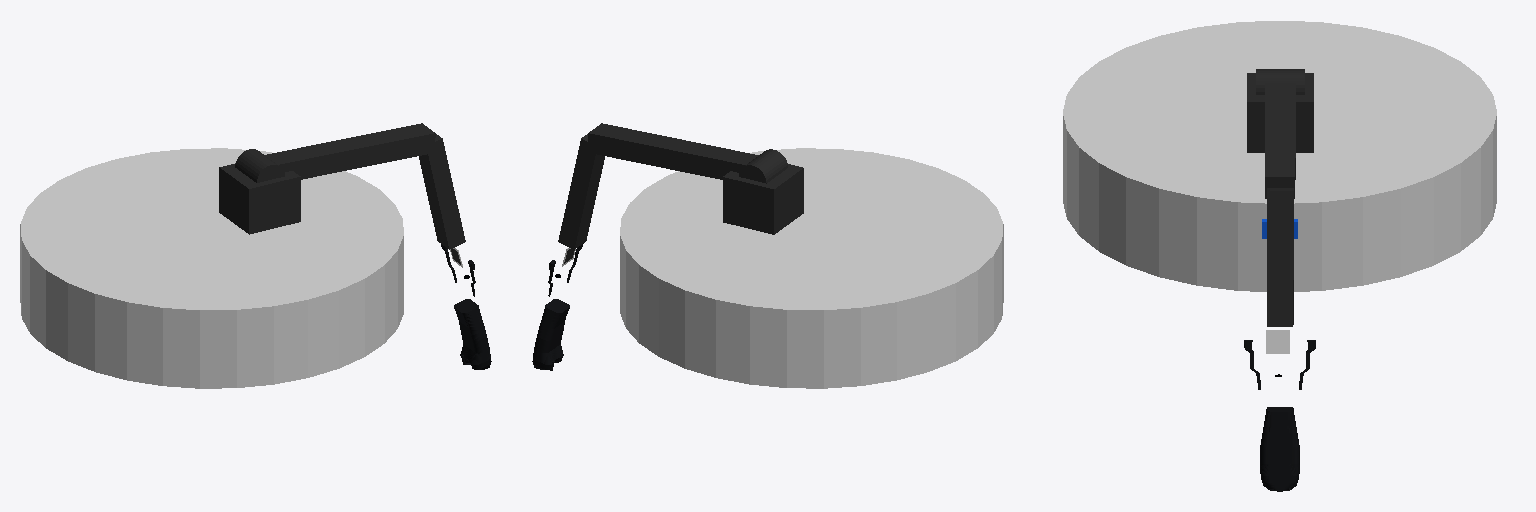
The robot description file, URDF, robot "z70":
<?xml version="1.0" ?><!-- =================================================================================== --><!-- |    This document was autogenerated by xacro from /Users/mpentax/Code/RoboRockZ70-Connector/ros2/install/z70_description/share/z70_description/urdf/z70.urdf.xacro | --><!-- |    EDITING THIS FILE BY HAND IS NOT RECOMMENDED                                 | --><!-- =================================================================================== --><!--
  Roborock Saros Z70 - kinematic description.
  PROVISIONAL shared geometry: config/mount_calibration.yaml, 20261015.
  L2=0.205 and the vendor shoulder reference define a coordinate gauge, NOT measured wrist anatomy.
  M4 zero/physical L2 remain confounded with unknown marker mounts. Firmware FK stays in arm_model.py.
  Display assembly length follows rough owner tape; internal wrist/finger split and M6 remain provisional.
  M5 stays at the nominal gauge station; rolling visuals are translated back along the same x axis.

  URDF joint values (radians) from app angles (degrees), computed in z70_bridge:
    m3_joint = rad(M3 - 270)      link1 absolute app angle = 270 - M3 (from +x toward up)
    m4_joint = rad(180 - M4)      link2 relative to link1 = M4 - 180
    m5_joint = -rad(M5), axis -x  => physical positive roll (live 20261014T144906Z)
    m6 drive = rad(M6)/2; photo-estimated articulation mimics this with multiplier
    2*opening_ratio (pincher_geometry.yaml); nominal0 closed/90 open, not feedback.
--><robot name="z70"><material name="body"><color rgba="0.85 0.85 0.85 1"/></material><material name="arm"><color rgba="0.2 0.2 0.2 1"/></material><material name="cam"><color rgba="0.1 0.4 0.9 1"/></material><material name="pincher_shell"><color rgba="0.10 0.105 0.115 1"/></material><material name="pincher_glass"><color rgba="0.025 0.03 0.035 1"/></material><link name="base_footprint"/><link name="base_link"><visual><origin xyz="0.09720000000000001 0 0.04"/><geometry><cylinder length="0.08" radius="0.1778"/></geometry><material name="body"/></visual></link><joint name="base_joint" type="fixed"><parent link="base_footprint"/><child link="base_link"/></joint><!-- front RGB camera --><link name="camera_link"><visual><geometry><box size="0.01 0.03 0.015"/></geometry><material name="cam"/></visual></link><joint name="camera_joint" type="fixed"><parent link="base_link"/><child link="camera_link"/><!-- New-run floor normal; roll is required for projector/optical-TF agreement. --><origin rpy="-0.007257016757390962 -0.02371494019965833 0" xyz="0.275 0 0.058233433935542395"/></joint><link name="camera_optical_frame"/><joint name="camera_optical_joint" type="fixed"><parent link="camera_link"/><child link="camera_optical_frame"/><origin rpy="-1.5707963267948966 0 -1.5707963267948966"/></joint><!-- Raised base: illustrative pedestal, NOT a surveyed enclosure shape.
       Keep base_footprint/odometry untouched; body nose alignment is visual only. --><link name="arm_base_pedestal_provisional"><visual><origin xyz="0 0 0.02321514576215148"/><geometry><box size="0.055 0.055 0.04643029152430296"/></geometry><material name="arm"/></visual></link><joint name="arm_base_pedestal_mount" type="fixed"><parent link="base_link"/><child link="arm_base_pedestal_provisional"/><origin xyz="0.14851727583481525 0.0005165412464665272 0.08"/></joint><!-- arm: planar chain in the x-z plane, revolute about +y --><link name="arm_shoulder_link"><visual><geometry><cylinder length="0.04" radius="0.015"/></geometry><origin rpy="1.5707963267948966 0 0"/><material name="arm"/></visual></link><link name="arm_vendor_frame"/><joint name="arm_mount" type="fixed"><parent link="base_footprint"/><child link="arm_vendor_frame"/><origin rpy="0 0 -0.0022922989427041425" xyz="0.10101740063232861 0.0006254253508872214 -0.013569708475697051"/></joint><joint name="arm_shoulder_mount" type="fixed"><parent link="arm_vendor_frame"/><child link="arm_shoulder_link"/><origin xyz="0.0475 0 0.14"/></joint><link name="arm_link1"><visual><origin xyz="0.08996244468280346 0 0"/><geometry><box size="0.1799248893656069 0.025 0.02"/></geometry><material name="arm"/></visual></link><joint name="m3_joint" type="revolute"><parent link="arm_shoulder_link"/><child link="arm_link1"/><origin rpy="0 0.039630310698817714 0"/><axis xyz="0 1 0"/><limit effort="5" lower="-3.141592653589793" upper="0" velocity="1"/></joint><link name="arm_link2"><visual><origin xyz="0.057150000000000006 0 0"/><geometry><box size="0.11430000000000001 0.022 0.018"/></geometry><material name="arm"/></visual></link><joint name="m4_joint" type="revolute"><parent link="arm_link1"/><child link="arm_link2"/><origin rpy="0 -0.039630310698817714 0" xyz="0.1799248893656069 0 0"/><axis xyz="0 1 0"/><limit effort="5" lower="0.17453292519943295" upper="2.5307274153917776" velocity="1"/></joint><!-- Camera rolls with M5 (measured 20261014T144906Z); nominal L2 is only a gauge. --><link name="gripper_camera_link"><!-- Small glass surface INSIDE the shared shell's real pocket. +X is view direction. --><visual><geometry><mesh filename="package://z70_description/meshes/pincher_lens.stl"/></geometry><material name="pincher_glass"/></visual></link><joint name="gripper_camera_mount" type="fixed"><parent link="arm_wrist_link"/><child link="gripper_camera_link"/><origin rpy="0.002174875751192185 -0.038601534561726554 0.001844468133870814" xyz="-0.04838856956211718 -0.0011258744987861164 0.00659228305051777"/></joint><link name="gripper_camera_optical_frame"/><joint name="gripper_camera_optical_joint" type="fixed"><parent link="gripper_camera_link"/><child link="gripper_camera_optical_frame"/><origin rpy="-1.5707963267948966 0 -1.5707963267948966"/></joint><link name="arm_wrist_link"><!-- Broad upper face follows the wrist, not the marker-plane orientation.
         Small marker backing is local; cavity and hidden anatomy provisional. --><visual><geometry><mesh filename="package://z70_description/meshes/pincher_shell.stl"/></geometry><material name="pincher_shell"/></visual><collision><origin xyz="-0.0694119432265 0 0.0025"/><geometry><box size="0.0551761135469 0.06 0.013"/></geometry></collision></link><joint name="m5_joint" type="revolute"><parent link="arm_link2"/><child link="arm_wrist_link"/><origin xyz="0.205 0 0"/><axis xyz="-1 0 0"/><limit effort="5" lower="-2.705260340591211" upper="0" velocity="1"/></joint><link name="m6_left_drive"/><joint name="m6_left_joint" type="revolute"><parent link="arm_wrist_link"/><child link="m6_left_drive"/><axis xyz="0 0 1"/><limit effort="1" lower="0" upper="0.7853981633974483" velocity="1"/></joint><link name="finger_left"><visual><geometry><mesh filename="package://z70_description/meshes/pincher_finger_left.stl"/></geometry><material name="pincher_shell"/></visual><collision><origin xyz="-0.000945 0 -4.33680868994e-19"/><geometry><box size="0.00189 0.009 0.012"/></geometry></collision><collision><origin xyz="0.00273 0 -4.33680868994e-19"/><geometry><box size="0.00546 0.009 0.012"/></geometry></collision><collision><origin xyz="0.00777 0 -4.33680868994e-19"/><geometry><box size="0.00462 0.009 0.012"/></geometry></collision><collision><origin xyz="0.01554 -0.00035 -2.16840434497e-19"/><geometry><box size="0.01092 0.0087 0.007"/></geometry></collision><collision><origin xyz="0.02562 -0.00535 -2.16840434497e-19"/><geometry><box size="0.00924 0.0161 0.0066"/></geometry></collision><collision><origin xyz="0.0336 -0.0144 0"/><geometry><box size="0.00672 0.0156 0.0062"/></geometry></collision><collision><origin xyz="0.03885 -0.0208 0"/><geometry><box size="0.00378 0.01 0.006"/></geometry></collision><collision><origin xyz="0.04116 -0.02505 -2.16840434497e-19"/><geometry><box size="0.00084 0.0017 0.005"/></geometry></collision><collision><origin xyz="0.04179 -0.0255 0"/><geometry><box size="0.00042 0.0008 0.0036"/></geometry></collision></link><joint name="finger_left_articulation" type="revolute"><parent link="arm_wrist_link"/><child link="finger_left"/><origin xyz="-0.07069999999999999 0.026 0.003"/><axis xyz="0 0 1"/><limit effort="1" lower="0" upper="1.0471975511965976" velocity="1"/><mimic joint="m6_left_joint" multiplier="1.3333333333333333" offset="0"/></joint><link name="m6_right_drive"/><joint name="m6_right_joint" type="revolute"><parent link="arm_wrist_link"/><child link="m6_right_drive"/><axis xyz="0 0 -1"/><limit effort="1" lower="0" upper="0.7853981633974483" velocity="1"/></joint><link name="finger_right"><visual><geometry><mesh filename="package://z70_description/meshes/pincher_finger_right.stl"/></geometry><material name="pincher_shell"/></visual><collision><origin xyz="-0.000945 0 -4.33680868994e-19"/><geometry><box size="0.00189 0.009 0.012"/></geometry></collision><collision><origin xyz="0.00273 0 -4.33680868994e-19"/><geometry><box size="0.00546 0.009 0.012"/></geometry></collision><collision><origin xyz="0.00777 0 -4.33680868994e-19"/><geometry><box size="0.00462 0.009 0.012"/></geometry></collision><collision><origin xyz="0.01554 0.00035 -2.16840434497e-19"/><geometry><box size="0.01092 0.0087 0.007"/></geometry></collision><collision><origin xyz="0.02562 0.00535 -2.16840434497e-19"/><geometry><box size="0.00924 0.0161 0.0066"/></geometry></collision><collision><origin xyz="0.0336 0.0144 0"/><geometry><box size="0.00672 0.0156 0.0062"/></geometry></collision><collision><origin xyz="0.03885 0.0208 0"/><geometry><box size="0.00378 0.01 0.006"/></geometry></collision><collision><origin xyz="0.04116 0.02505 -2.16840434497e-19"/><geometry><box size="0.00084 0.0017 0.005"/></geometry></collision><collision><origin xyz="0.04179 0.0255 0"/><geometry><box size="0.00042 0.0008 0.0036"/></geometry></collision></link><joint name="finger_right_articulation" type="revolute"><parent link="arm_wrist_link"/><child link="finger_right"/><origin xyz="-0.07069999999999999 -0.026 0.003"/><axis xyz="0 0 -1"/><limit effort="1" lower="0" upper="1.0471975511965976" velocity="1"/><mimic joint="m6_right_joint" multiplier="1.3333333333333333" offset="0"/></joint><!-- ID68 is on the underside of the pincher, not at the nominal wrist.
       Preserve all three measured rotation axes; only the black square must be planar.
       Paper thickness is illustrative and offset behind the registered printed plane. --><link name="pincher_marker_68"><visual><origin xyz="0 0 -0.0002"/><geometry><box size="0.02 0.02 0.0004"/></geometry><material name="body"/></visual><visual><origin xyz="0 0 0.00005"/><geometry><box size="0.015 0.015 0.0001"/></geometry><material name="arm"/></visual></link><joint name="pincher_marker_68_mount" type="fixed"><parent link="arm_wrist_link"/><child link="pincher_marker_68"/><origin rpy="3.0950421233739274 -0.024953128353835362 1.564202731249083" xyz="-0.0762429935460632 -0.0016392305376903915 -2.4713510930205254e-06"/></joint><link name="gripper_tcp"/><joint name="tcp_joint" type="fixed"><parent link="arm_wrist_link"/><child link="gripper_tcp"/><!-- Provisional marker-relative terminal-region surrogate, not an exact pad/contact-seam midpoint; physical M5 station and pad anatomy remain unmeasured. --><origin xyz="-0.04250228216791799 -0.0011288909068253214 0.019629324213822588"/></joint></robot>

--- Render facts (derived) ---
3 views of the same robot in one strip: view 1: azimuth 30°, elevation 25°; view 2: azimuth 150°, elevation 25°; view 3: azimuth 270°, elevation 25° (orthographic).
Robot: z70 — 18 links, 17 joints (7 revolute, 10 fixed); root link base_footprint; default pose: all joints at 0 but 1 set to mid-range because 0 is outside their limits (m4_joint = 1.35).
Visible links, largest first — view 1: base_link, arm_link1, arm_base_pedestal_provisional, arm_link2, arm_wrist_link, arm_shoulder_link; view 2: base_link, arm_link1, arm_base_pedestal_provisional, arm_link2, arm_wrist_link, arm_shoulder_link; view 3: base_link, arm_link2, arm_link1, arm_wrist_link, arm_base_pedestal_provisional, arm_shoulder_link, pincher_marker_68.
Boxes of the visible links, x1,y1,x2,y2 form: base_link: (20,148,403,388); arm_link1: (265,123,435,179); arm_base_pedestal_provisional: (219,163,300,234); arm_link2: (419,134,465,249); arm_wrist_link: (454,299,491,369); arm_shoulder_link: (235,149,284,182); base_link: (620,148,1003,388); arm_link1: (588,123,758,179); arm_base_pedestal_provisional: (723,164,803,234); arm_link2: (558,134,604,249); arm_wrist_link: (532,299,569,370); arm_shoulder_link: (739,149,787,183); base_link: (1063,21,1496,291); arm_link2: (1267,188,1293,326); arm_link1: (1265,83,1295,198); arm_wrist_link: (1260,407,1299,491); arm_base_pedestal_provisional: (1247,73,1313,152); arm_shoulder_link: (1256,69,1304,94); pincher_marker_68: (1266,330,1289,353).
Bounding box of the posed robot: 0.4723 × 0.3556 × 0.2673 m (x, y, z).
4 mesh visuals loaded from 4 distinct referenced files (4 binary STL).
